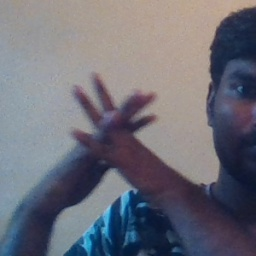W: (60, 66, 166, 191)
